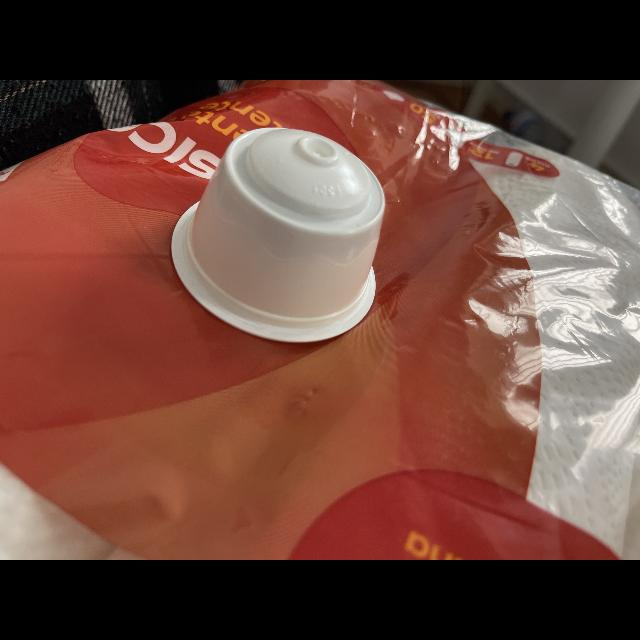intact_capsule: (156, 122, 400, 354)
